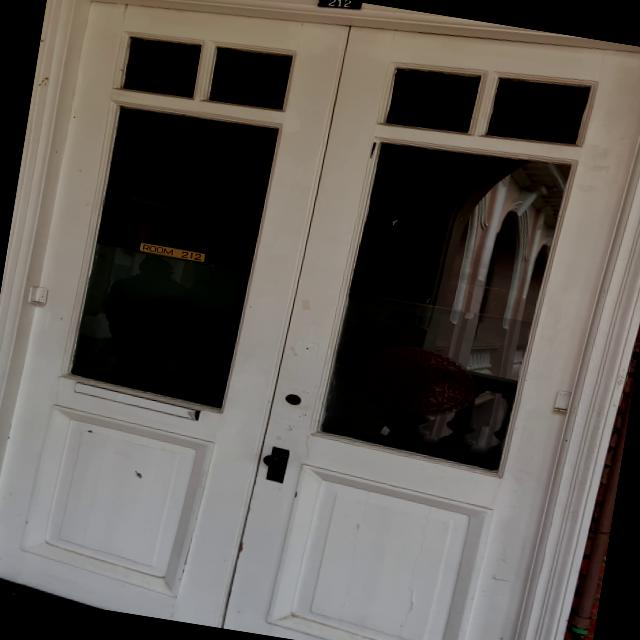room212Window: (129, 234, 212, 268)
